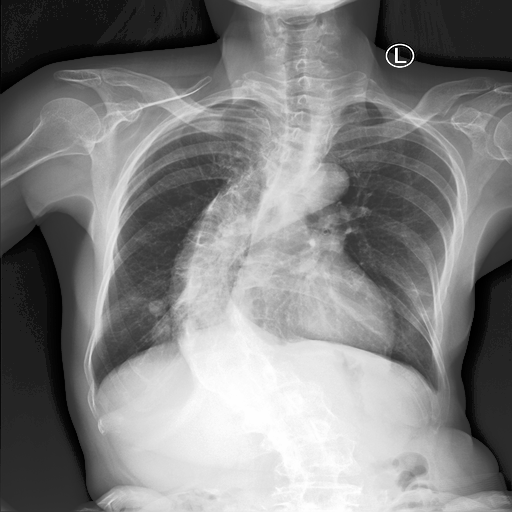Nodule/Mass: (161, 231, 413, 371)
Other lesion: (153, 75, 345, 429), (167, 188, 277, 286)
Pulmonary fibrosis: (132, 292, 183, 352)
